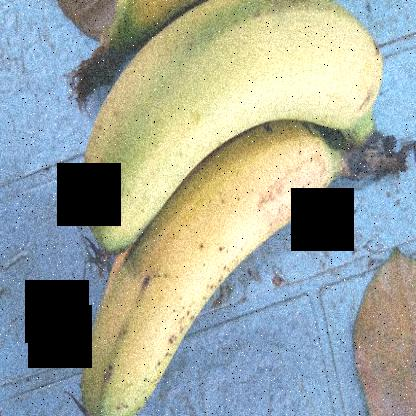freshripe: (49, 1, 393, 228)
ripe: (81, 131, 363, 415)
